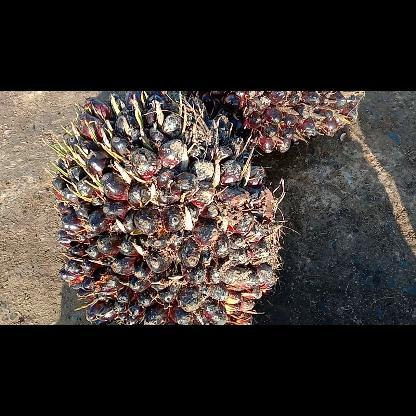TBS mentah: (49, 90, 289, 324), (176, 91, 370, 159)
